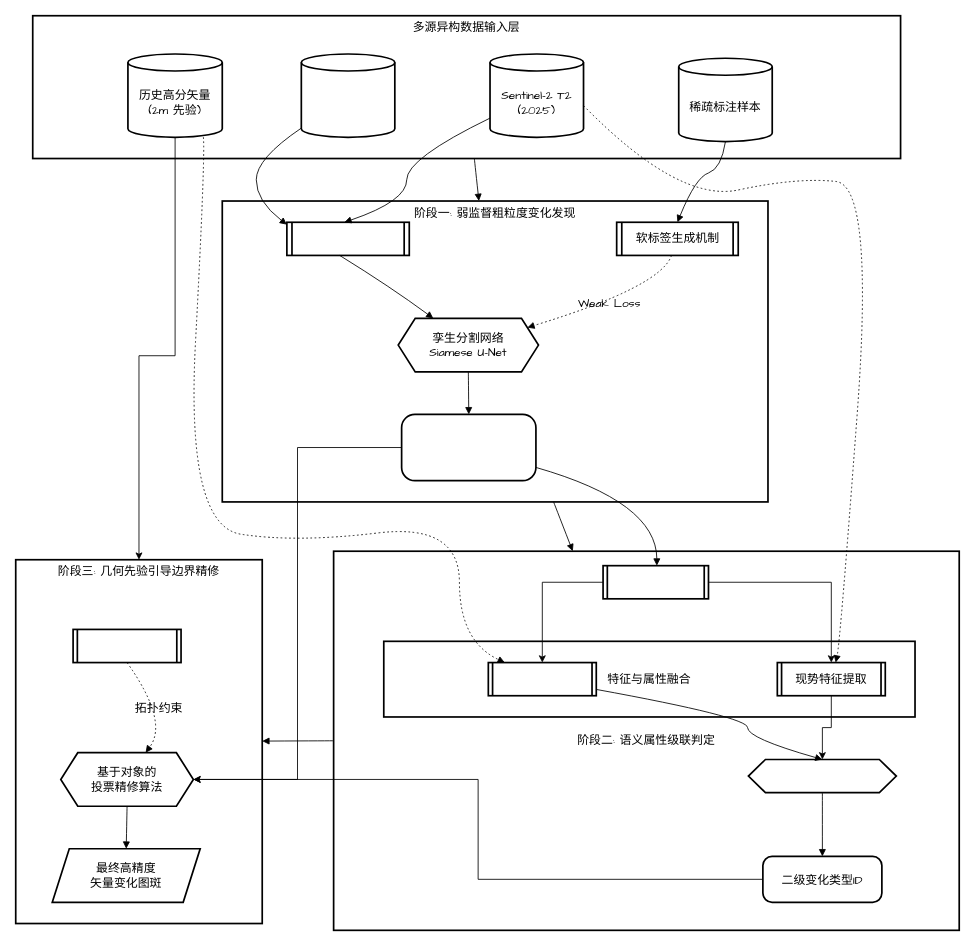
The diagram is 974 pixels wide and 945 high, and some of its shapes have lost their labels. The shapes that lost their labels are listed below. From the top down, each one's centre as x and y in pixels, then its label:
At point 347,95: "Sentinel-2 T1 (2024)".
At point 348,238: "GEE 云端预处理".
At point 468,447: "粗粒度变化概率图 10m 栅格".
At point 655,581: "ROI 阈值掩膜".
At point 126,645: "几何对象引导".
At point 542,678: "历史属性查询".
At point 822,775: "随机森林分类器".
